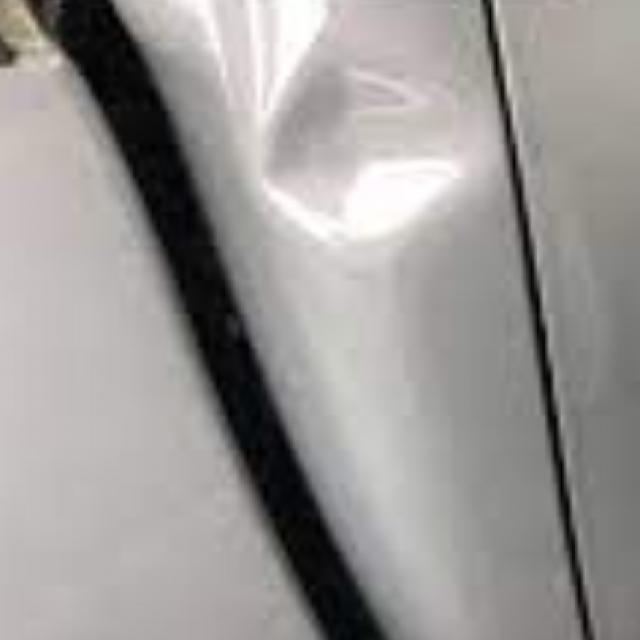dents: (242, 0, 469, 262)
